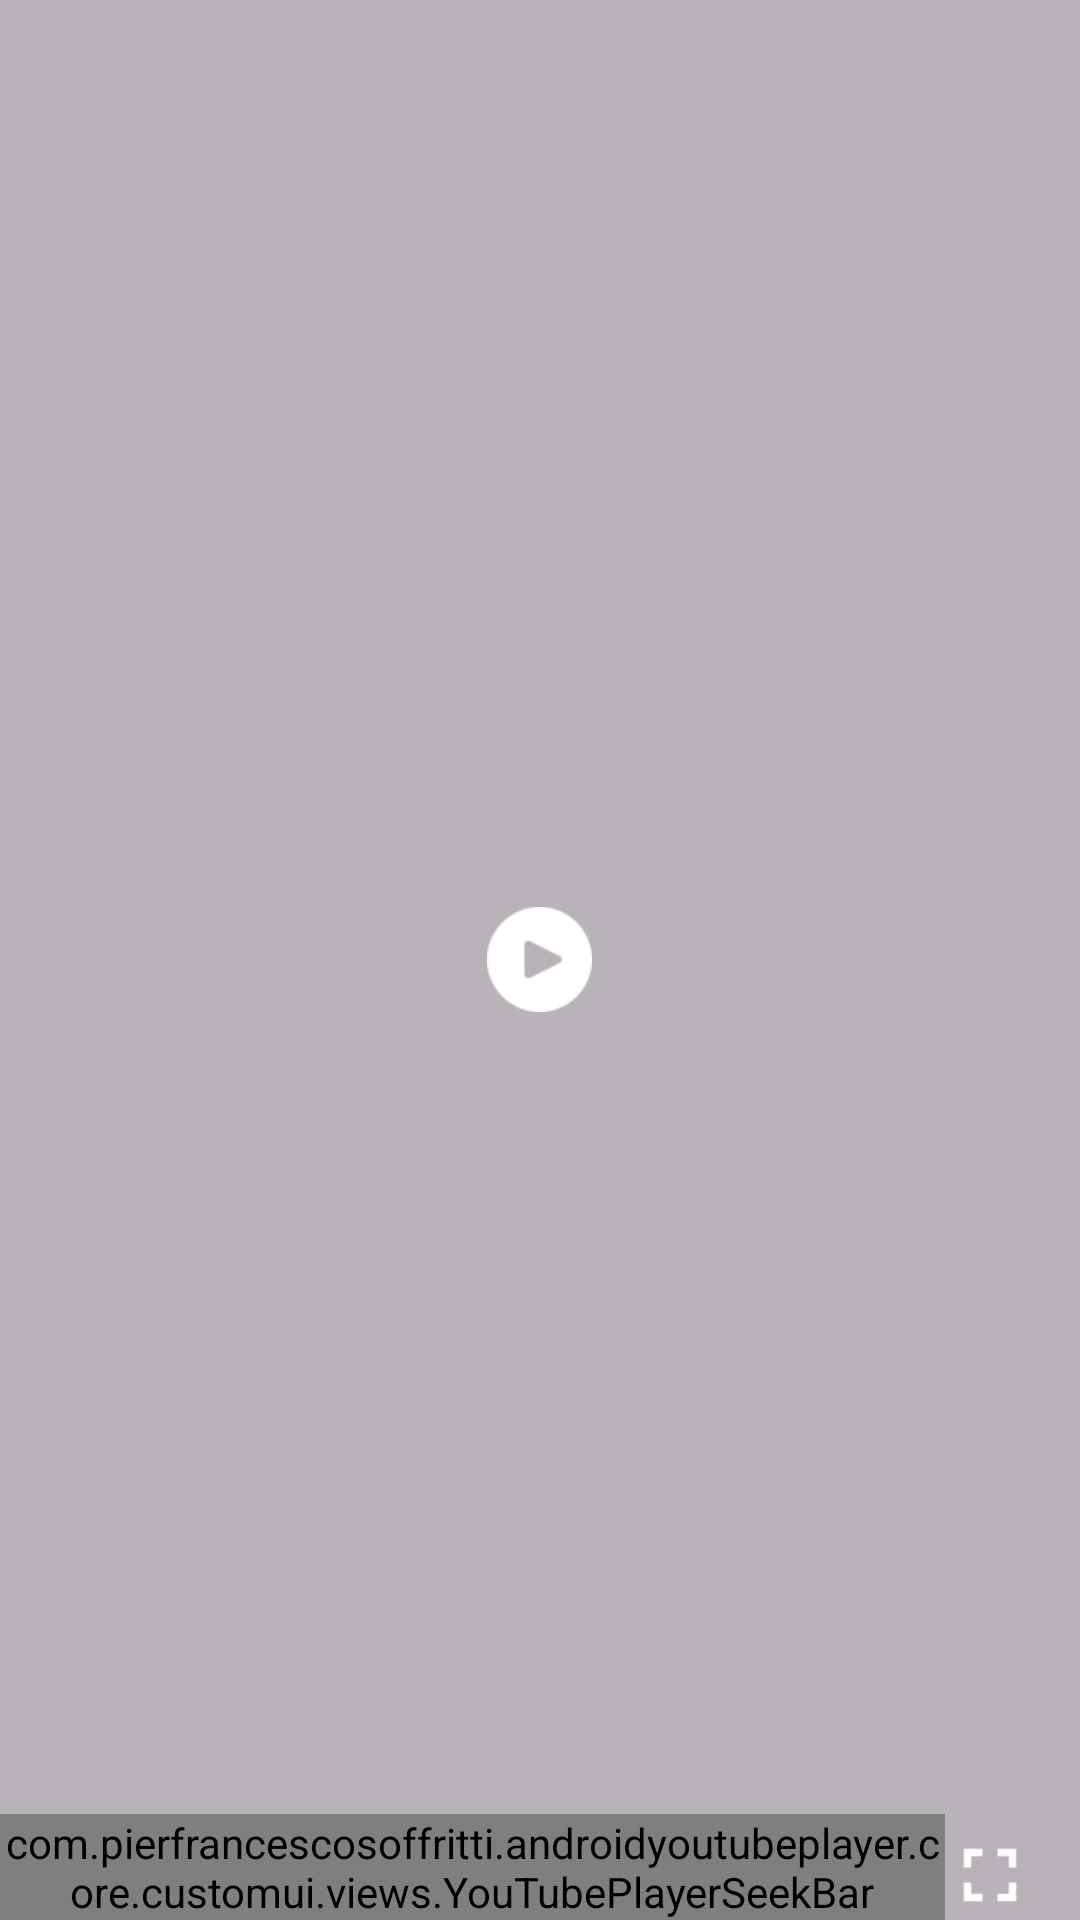

Where to tap for icons on this 1080 x 1920 app screen, as point (x, y):
fullscreen: point (990, 1875)
play vp: point (539, 959)
